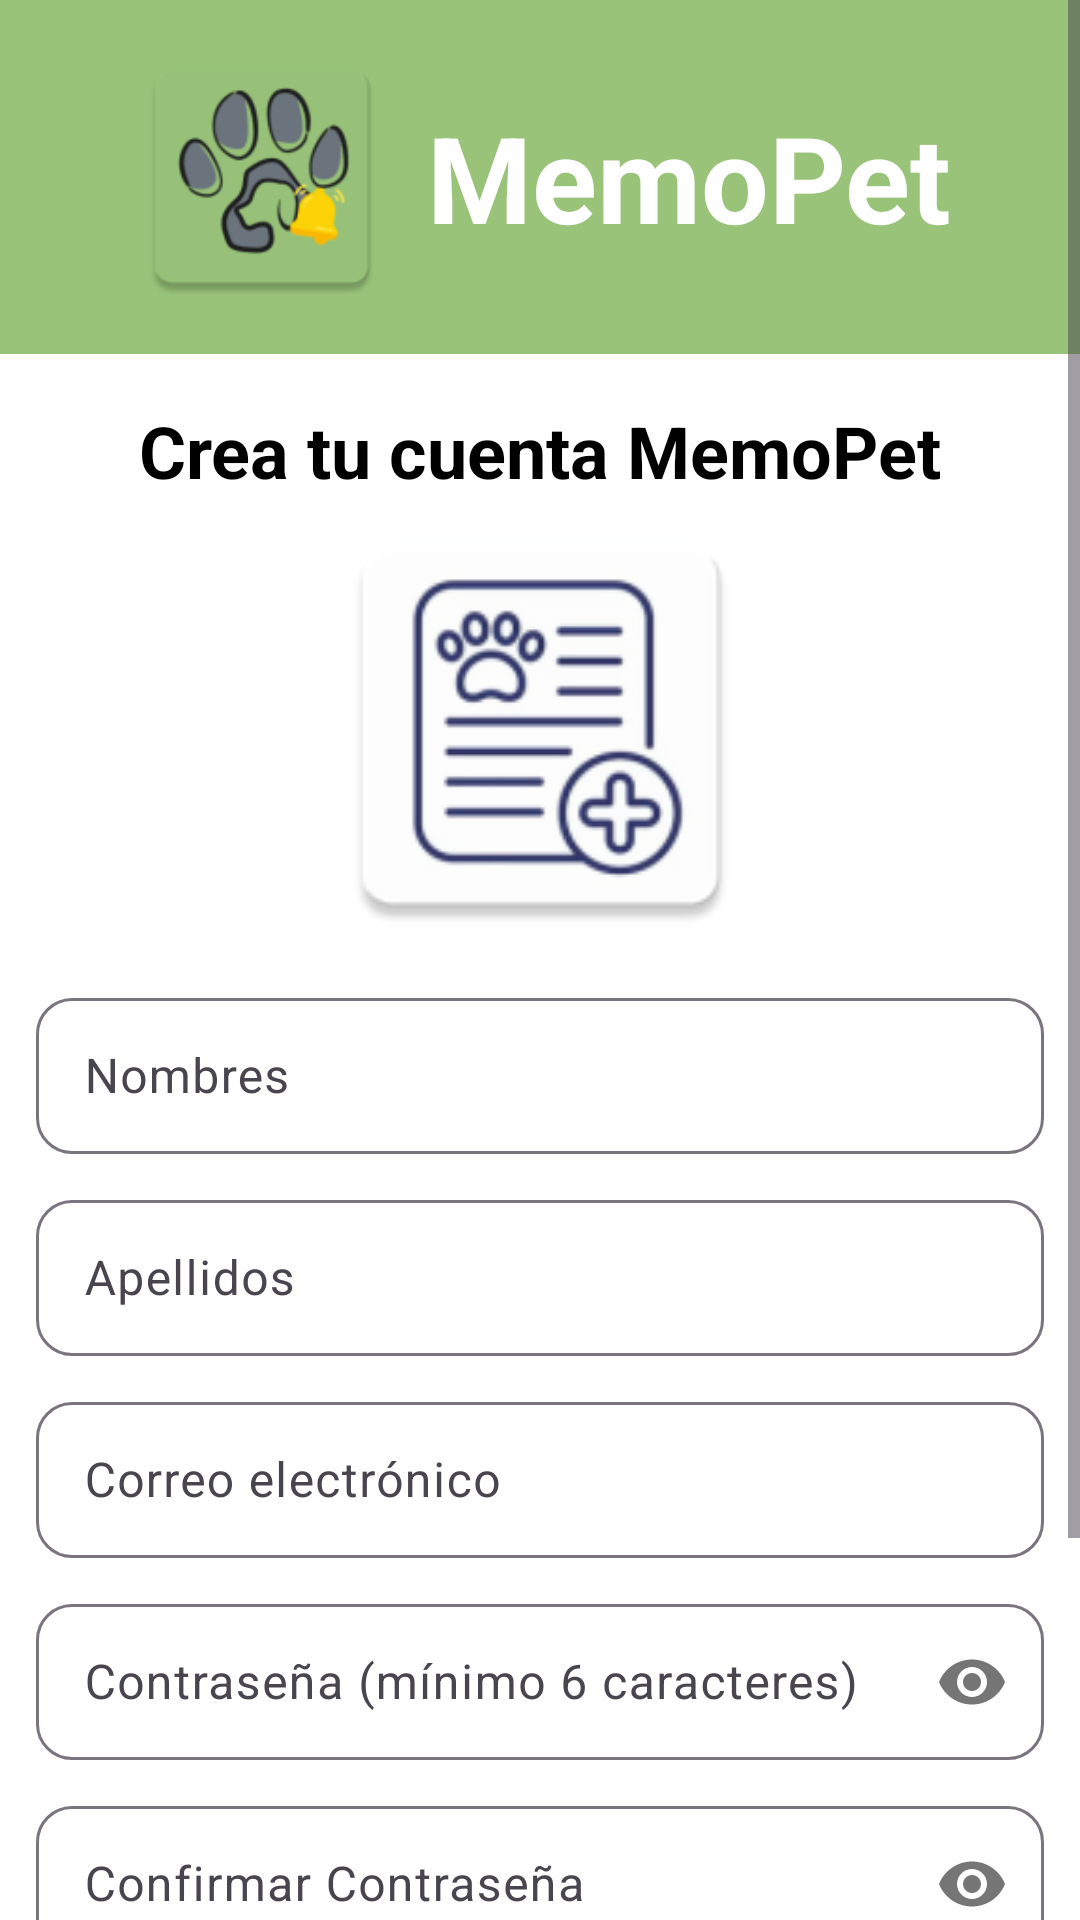

Where icons sit on this 1080w x 1920h app screen, as (x1, y1, x2, y2):
registro: (363, 567, 722, 916)
